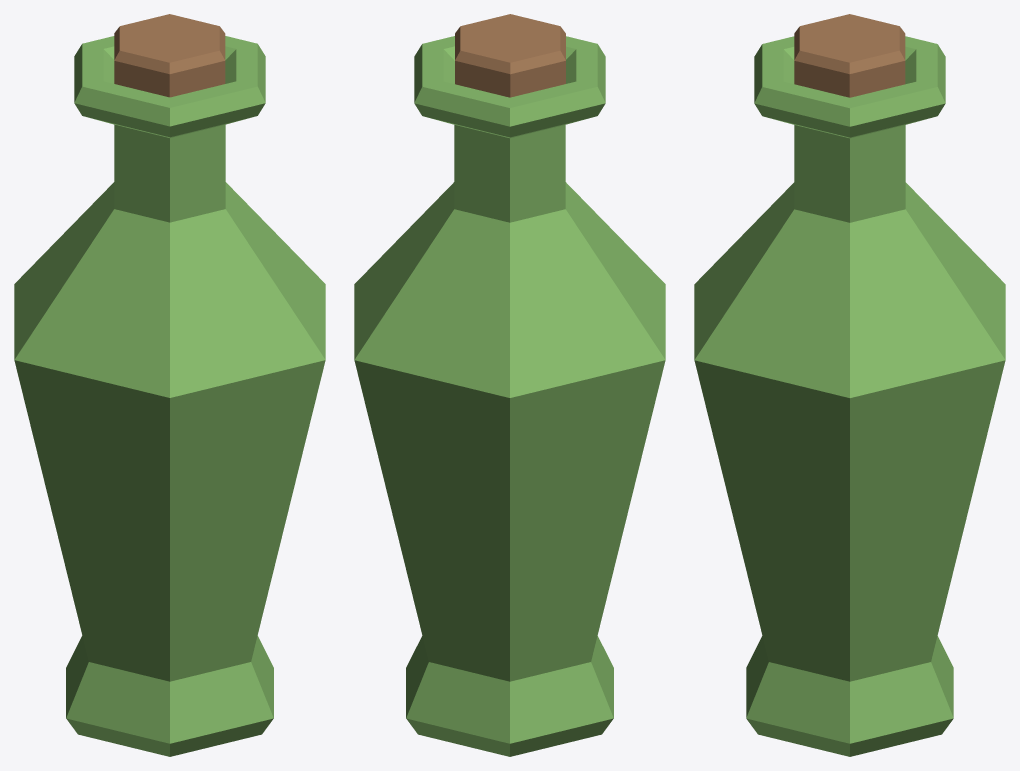
File: Green_Potion_8.fbx
3 views of the same model, side by side, from view 1: azimuth 30°, elevation 25°; view 2: azimuth 150°, elevation 25°; view 3: azimuth 270°, elevation 25° (orthographic).
Parts seen in each view (by area): view 1: Green_Potion_8; view 2: Green_Potion_8; view 3: Green_Potion_8.
Part boxes in pixels (x1,y1,x2,y2): Green_Potion_8: [14, 14, 325, 756]; Green_Potion_8: [354, 14, 665, 756]; Green_Potion_8: [694, 14, 1005, 756].
Size of the model in its own units: 16.45 by 34.03 by 14.25.
